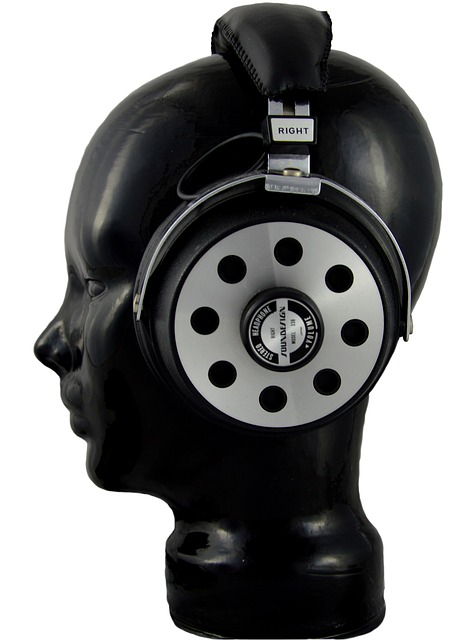headphones: (134, 3, 414, 433)
